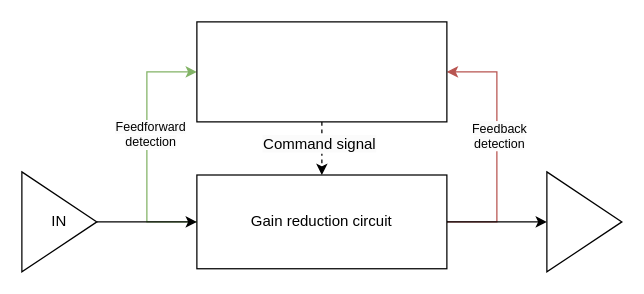
The diagram is 644 pixels wide and 294 high, and some of its shapes have lost their labels. The centre of each missing label's shape, as x and y in pixels:
"Detection circuit" goes at [321,71].
"OUT" goes at [584,221].
